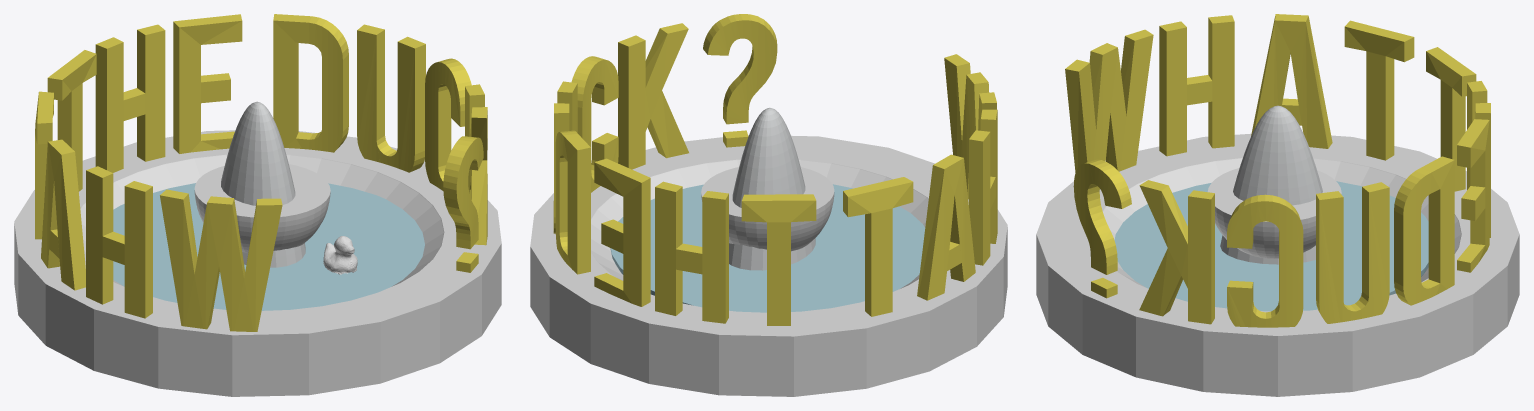
The model's file is duck.glb.
The picture shows the model from 3 angles, left to right: view 1: azimuth 30°, elevation 25°; view 2: azimuth 150°, elevation 25°; view 3: azimuth 270°, elevation 25°; orthographic projection. The views are drawn at different scales.
Parts seen in each view (by area): view 1: Mesh_Mesh_head_geo.001_lambert2SG.001; view 2: Mesh_Mesh_head_geo.001_lambert2SG.001; view 3: Mesh_Mesh_head_geo.001_lambert2SG.001.
Part boxes in pixels (x1,y1,x2,y2): Mesh_Mesh_head_geo.001_lambert2SG.001: [14, 14, 501, 396]; Mesh_Mesh_head_geo.001_lambert2SG.001: [530, 14, 1007, 396]; Mesh_Mesh_head_geo.001_lambert2SG.001: [1036, 14, 1519, 396].
Bounding box in the file's own units: 72 × 34 × 72.
